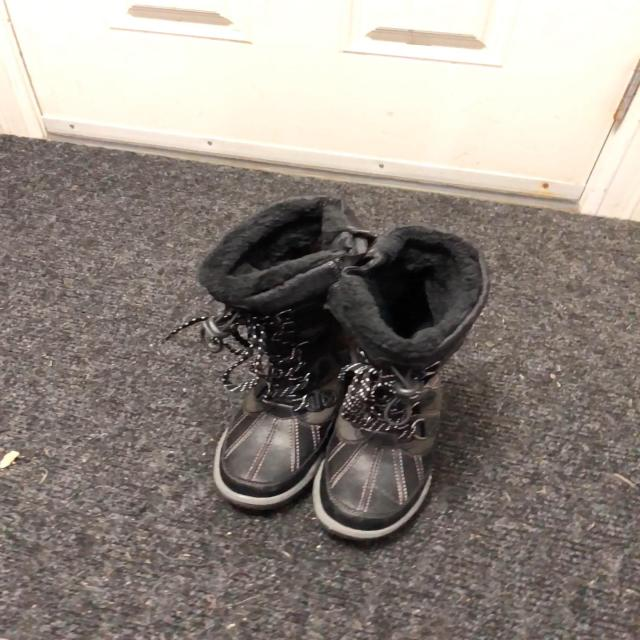shoe: (310, 363, 445, 551), (212, 367, 349, 515)
